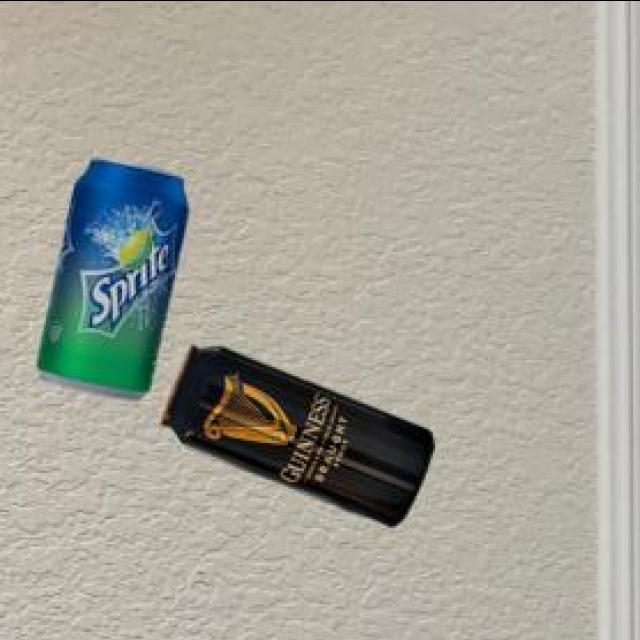logam: (158, 349, 432, 528), (33, 160, 185, 402)
